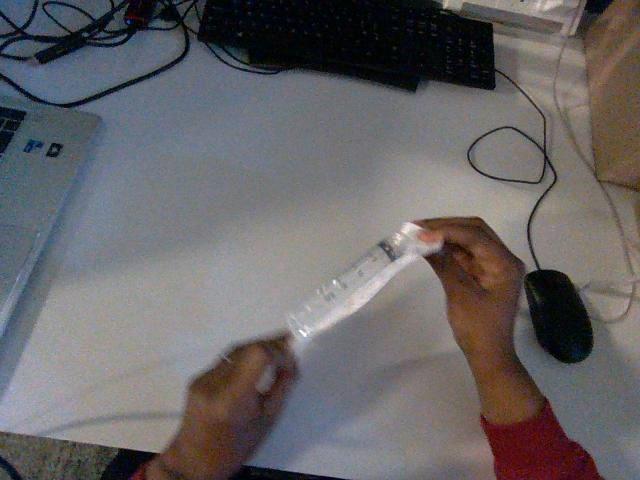syringe: (287, 222, 441, 342)
